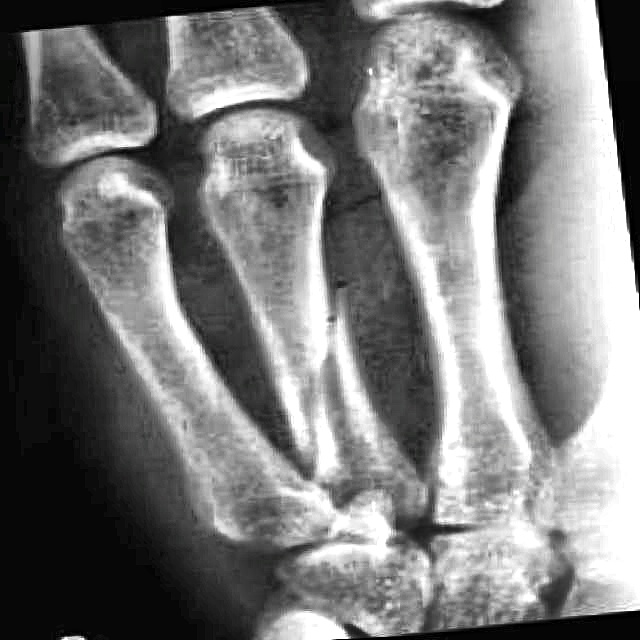Oblique Displaced: (248, 260, 400, 488)
